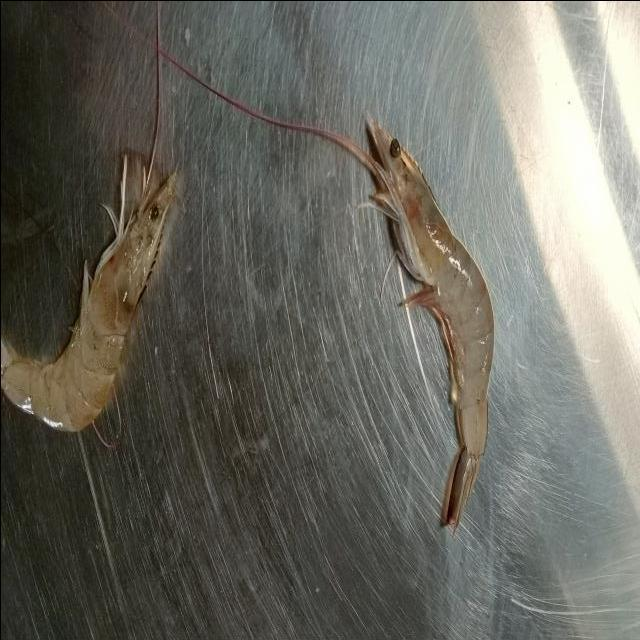shrimp: (370, 122, 493, 534), (0, 166, 179, 433)
